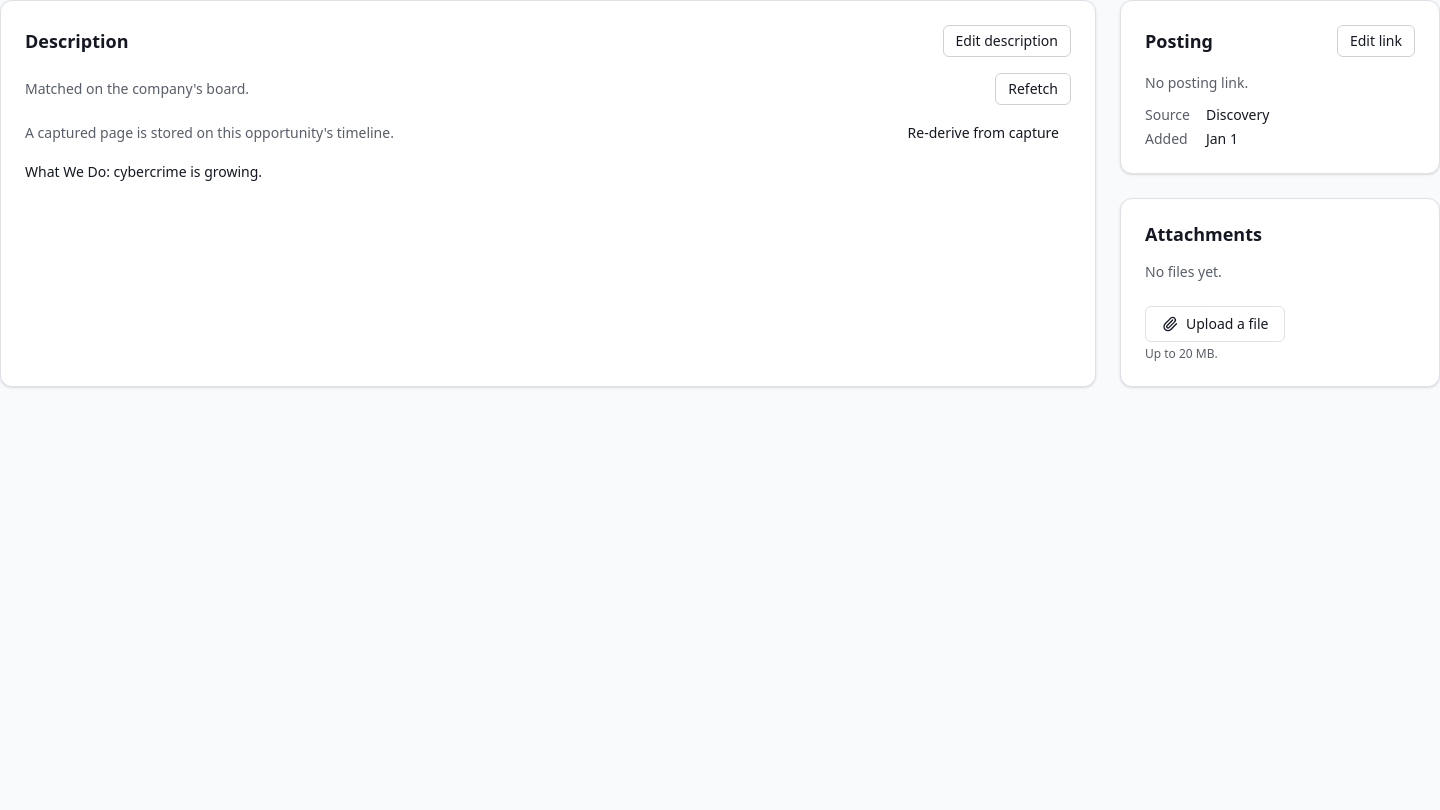
Test: the Description card keeps a way to look the posting up › offers Re-derive from capture whenever a capture is stored (issue #264)
Click the button "Re-derive from capture" at x=983, y=133, box [896,117,1071,149]
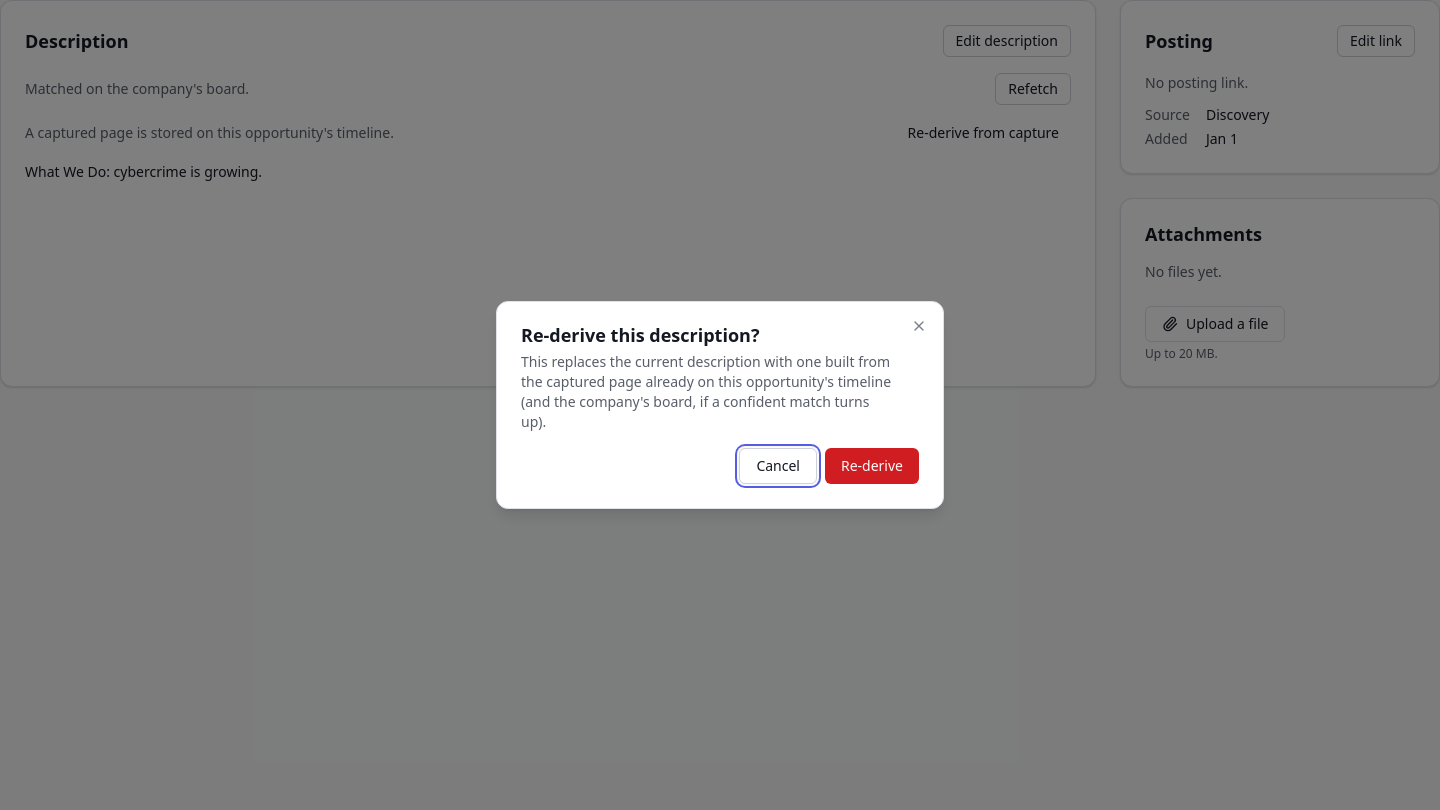
Click the button "Re-derive" at x=872, y=466, box [825,448,919,484]
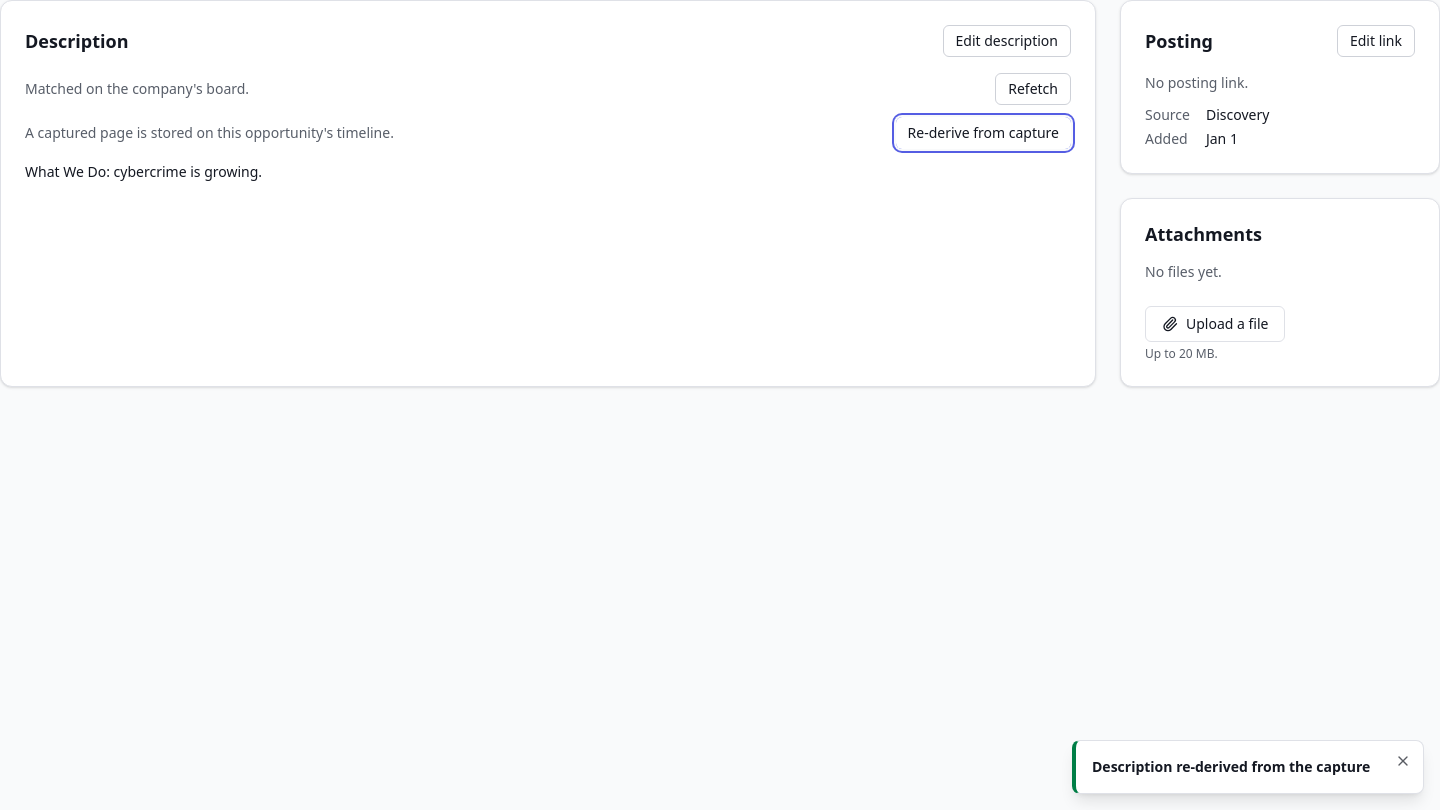
Result: the text "Description re-derived from the capture" is shown at [1092,757,1383,777]
